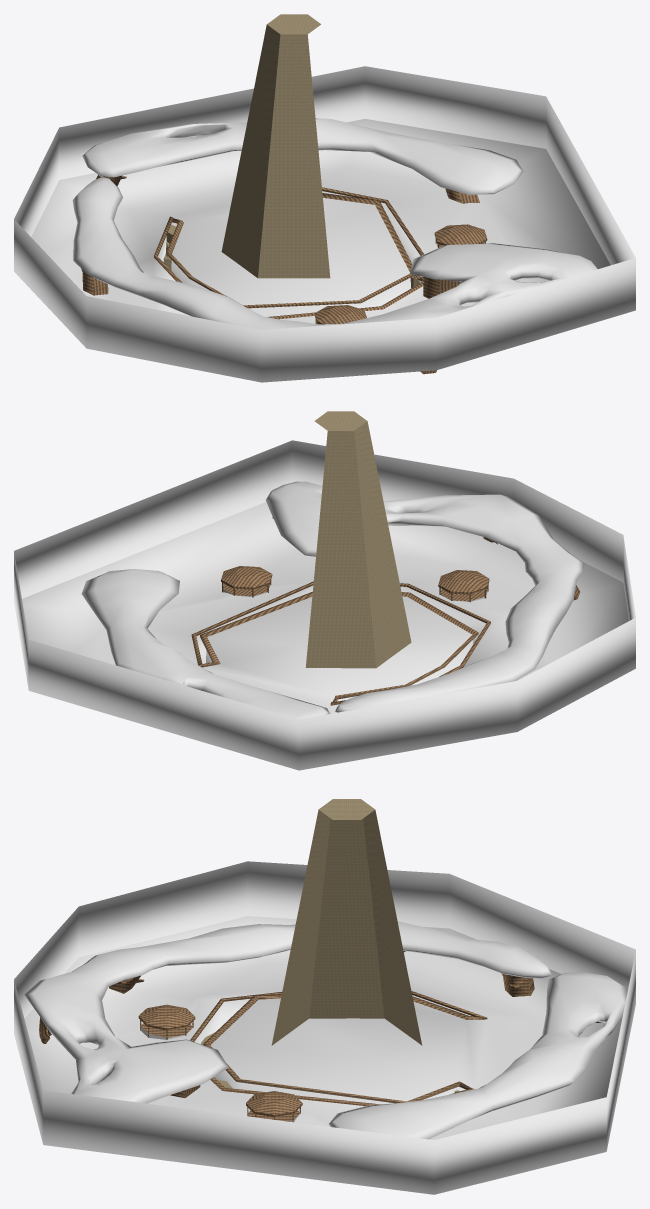
The model's file is TowerGroundLevelOutside.fbx.
3 views of the same model, one above another, from view 1: azimuth 30°, elevation 25°; view 2: azimuth 150°, elevation 25°; view 3: azimuth 270°, elevation 25° (orthographic). The views are drawn at different scales.
Visible parts, largest first — view 1: landmass, fence; view 2: landmass, fence; view 3: landmass, fence.
Boxes of the visible parts, x1,y1,x2,y2 form: landmass: (31,14,610,374); fence: (14,66,635,382); landmass: (22,411,628,719); fence: (14,440,635,770); landmass: (24,799,627,1139); fence: (14,861,635,1194).
Bounding box in the file's own units: 136546 × 64450 × 128730.
